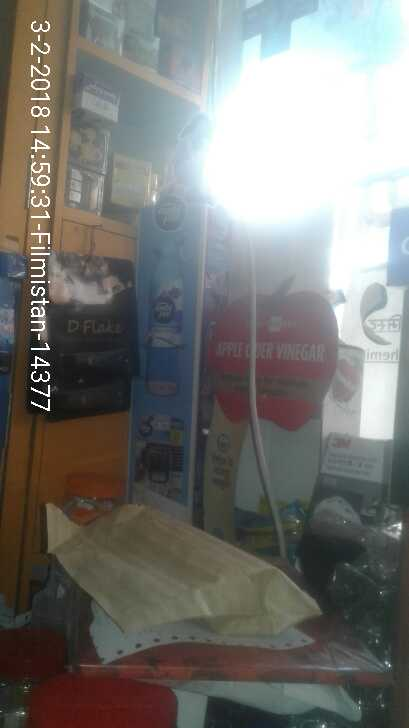reject: (121, 259, 239, 318)
